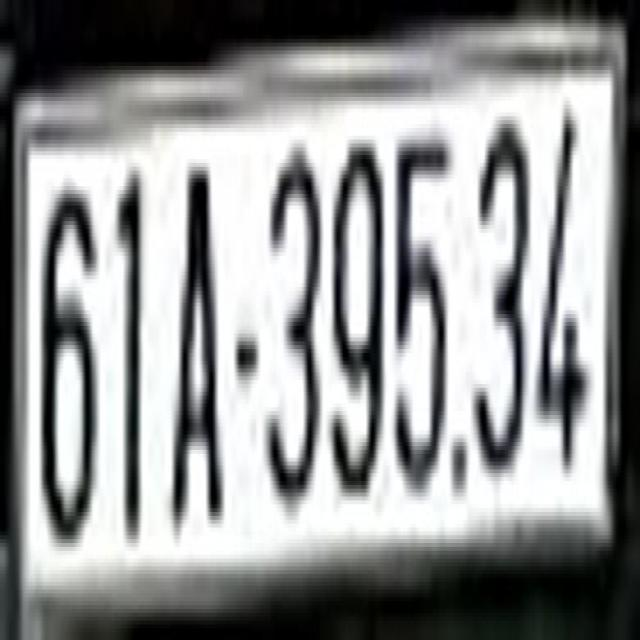1: (112, 159, 144, 543)
3: (264, 124, 325, 524), (471, 97, 526, 477)
4: (534, 101, 592, 473)
5: (392, 128, 451, 485)
6: (36, 167, 98, 547)
9: (327, 128, 385, 535)
A: (167, 155, 224, 547)
